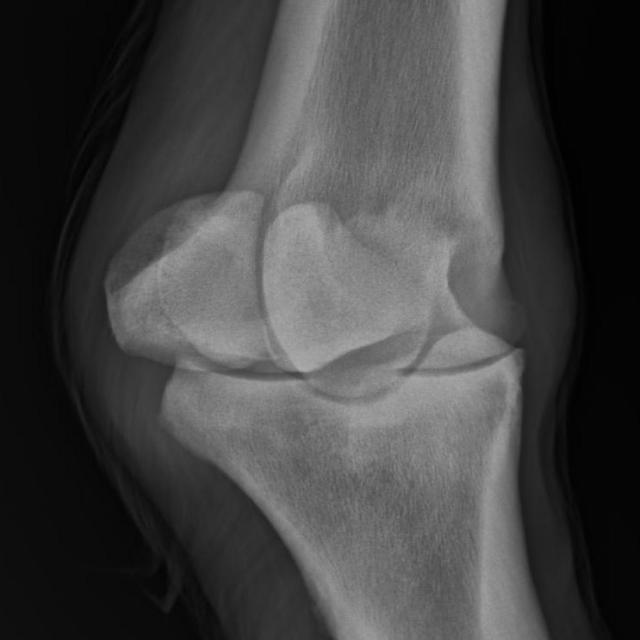bone remodeling: (507, 331, 548, 377)
